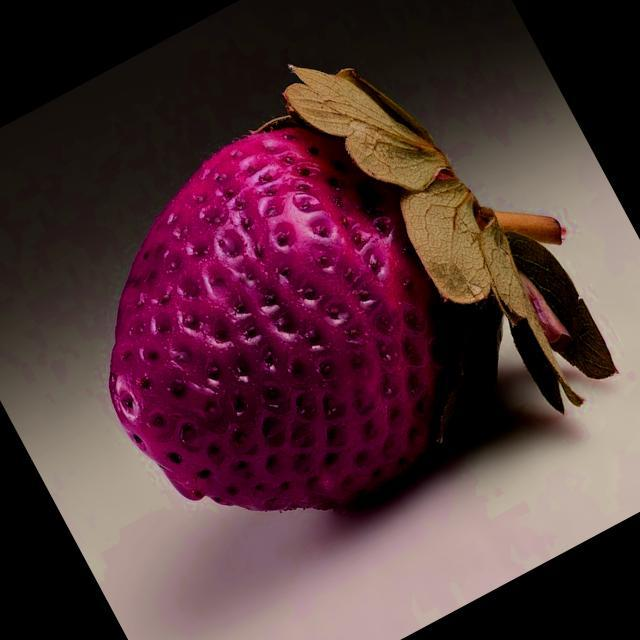strawberry: (109, 66, 616, 510)
